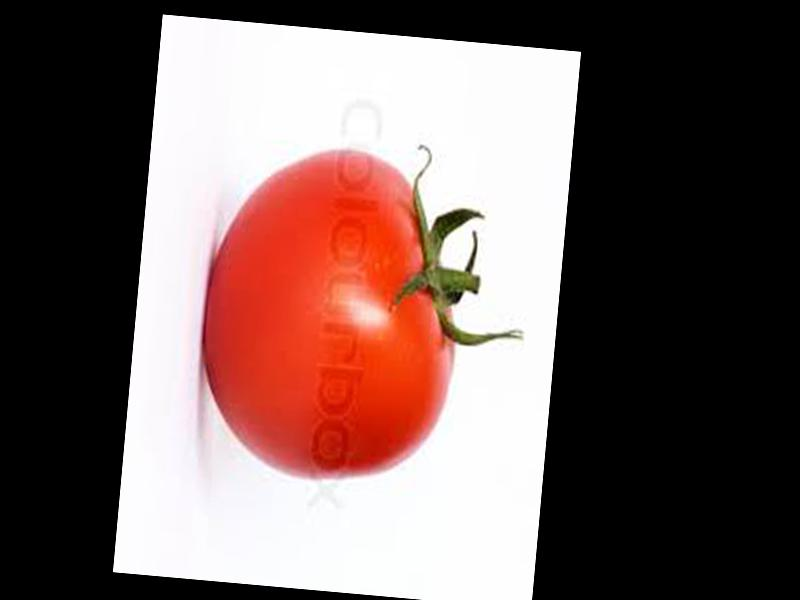Tomato: (194, 142, 472, 489)
